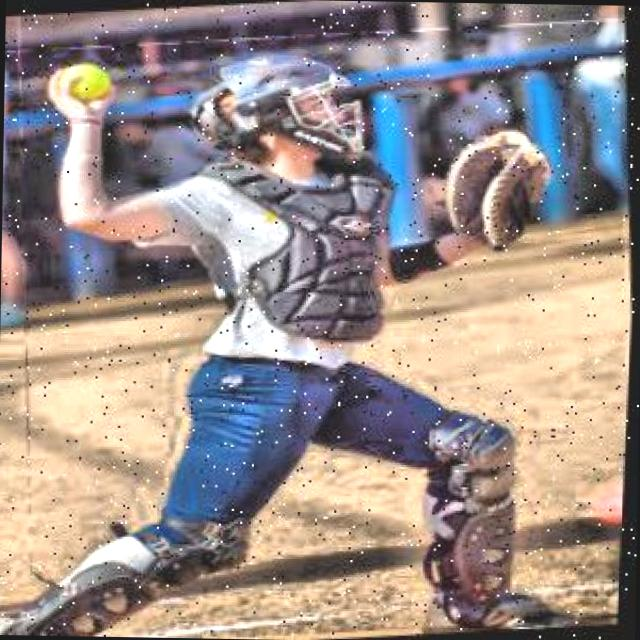Tennis Ball: (60, 63, 114, 104)
